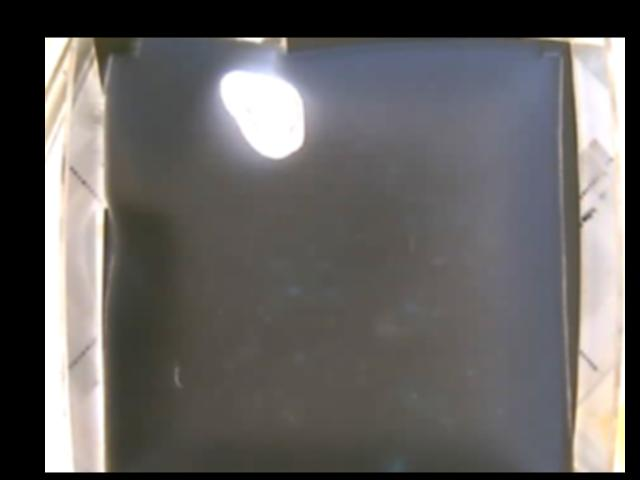Pebble: (220, 69, 304, 158)
